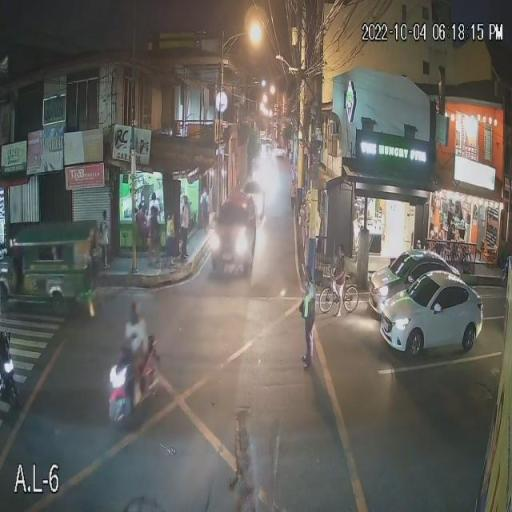motorcycle: (107, 335, 161, 428), (0, 330, 18, 412)
rider: (122, 301, 158, 384)
